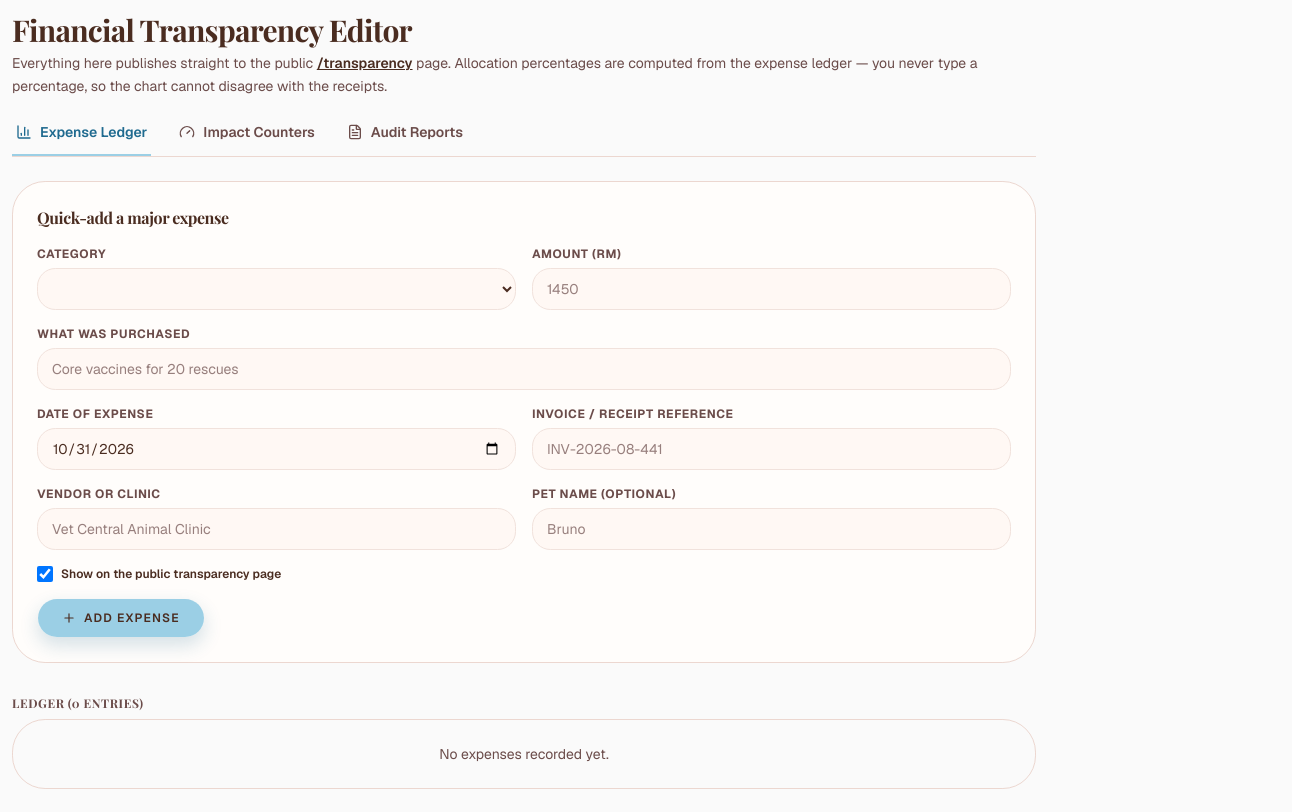
Test: transparency Audit Reports tab › offers the upload, and a link field, to every member the page admits
This screenshot has width=1292, height=812.
Click the button "Audit Reports".
click(405, 138)  # box x1=343 y1=122 x2=467 y2=156
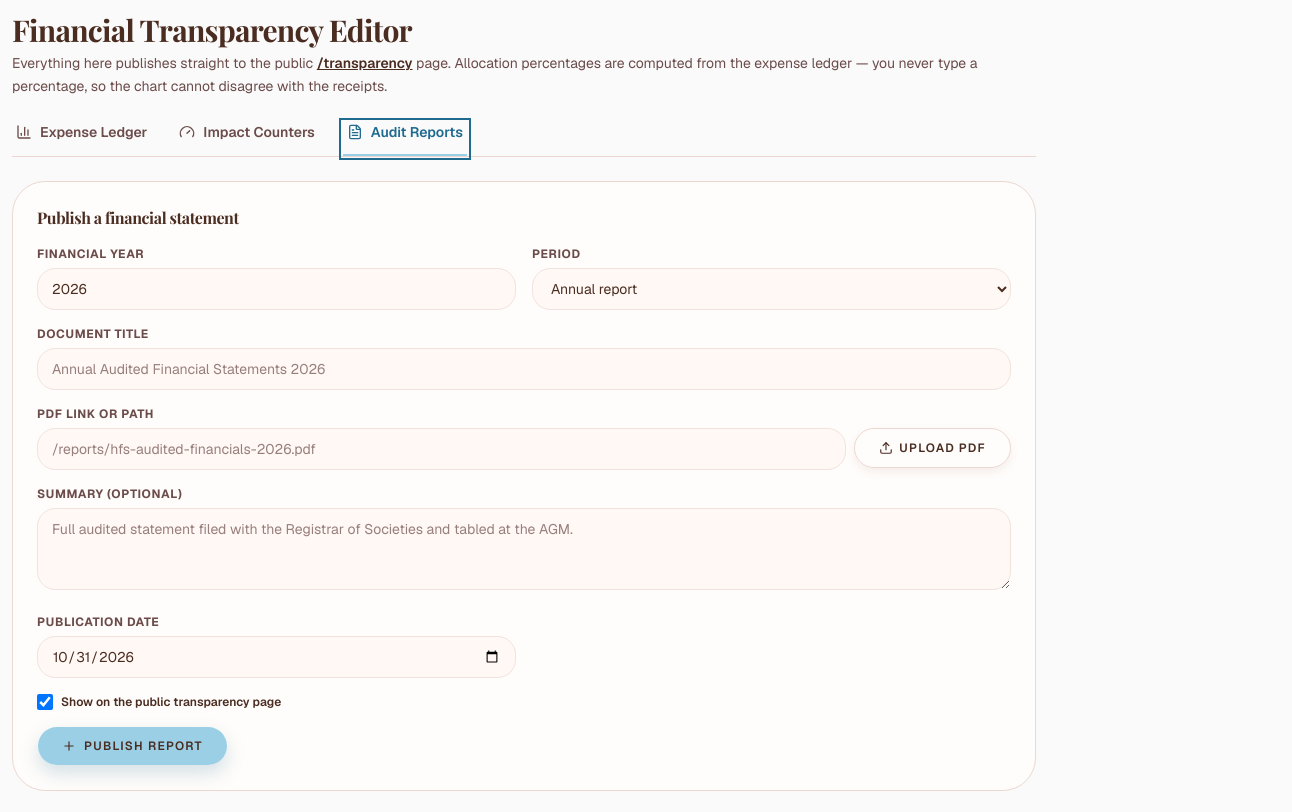
Result: the button "Upload PDF" is shown at x1=854 y1=428 x2=1011 y2=468
Result: the field labelled "PDF link or path" is shown at x1=37 y1=428 x2=846 y2=470
